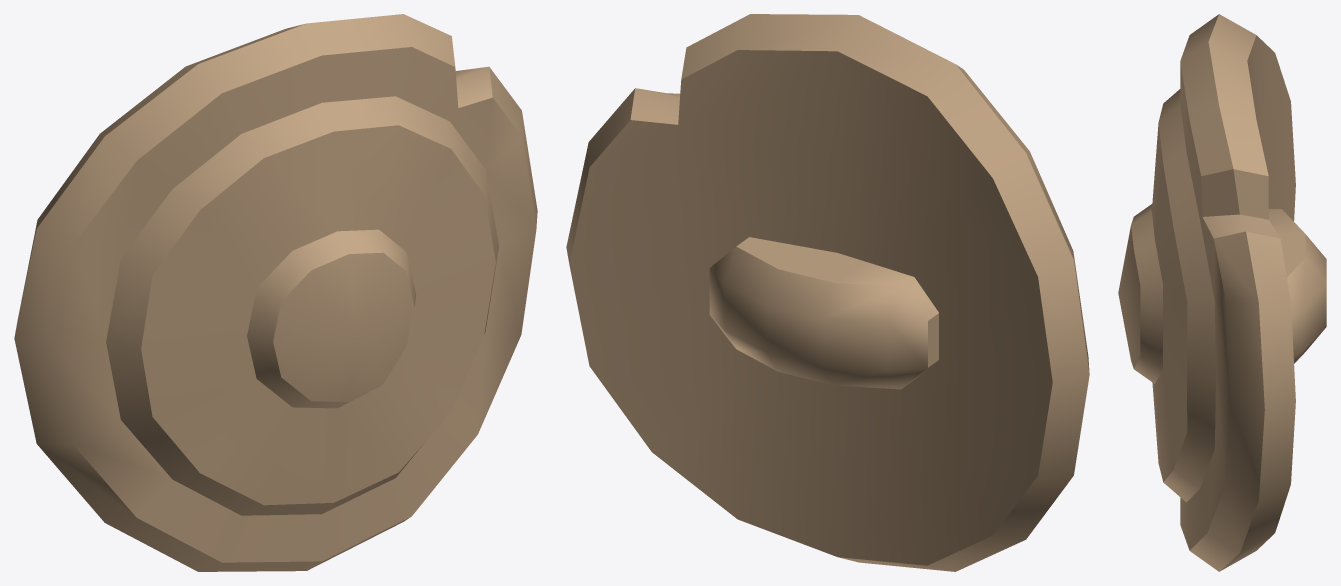
Rendered from shield_round_barbarian.glb.
The picture shows the model from 3 angles, left to right: view 1: azimuth 30°, elevation 25°; view 2: azimuth 150°, elevation 25°; view 3: azimuth 270°, elevation 25°; orthographic projection. The views are drawn at different scales.
Visible parts, largest first — view 1: shield_round_barbarian; view 2: shield_round_barbarian; view 3: shield_round_barbarian.
Boxes of the visible parts, x1,y1,x2,y2 form: shield_round_barbarian: [14, 14, 537, 571]; shield_round_barbarian: [566, 14, 1089, 571]; shield_round_barbarian: [1118, 14, 1326, 571].
Size of the model in its own units: 0.8826 by 0.8826 by 0.3319.
